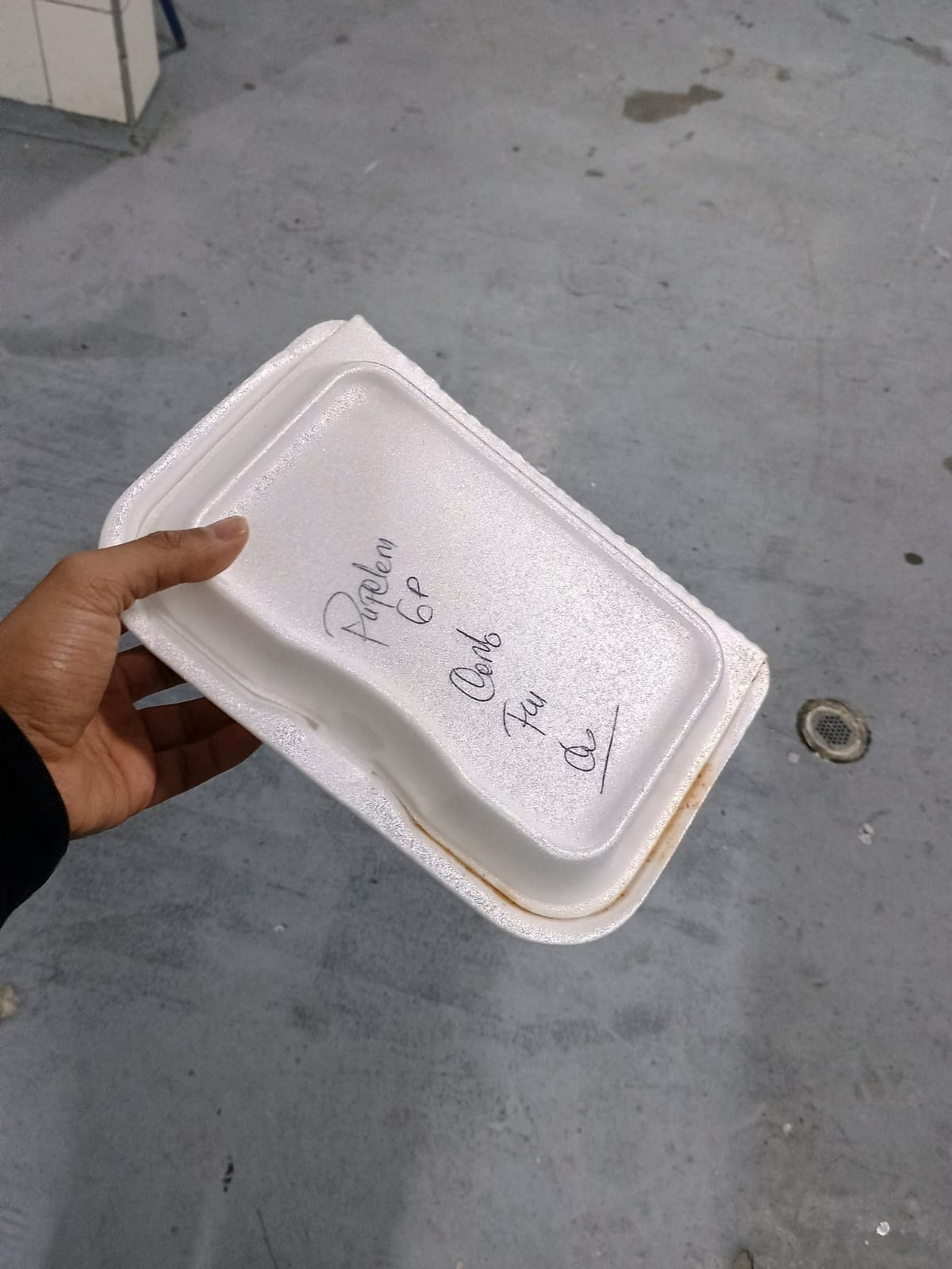Ordinario: (97, 313, 772, 950)
